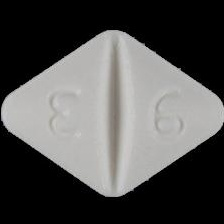0093-0039: (0, 0, 224, 224)
